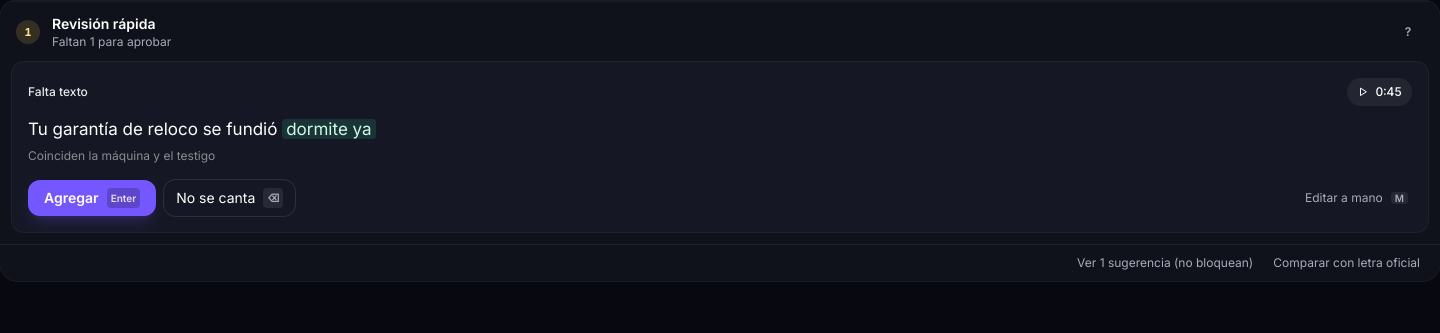
Scenario: LyricReviewPanel › shows one active card with the change, and hides suggestions until asked
Check: the text with test id "lyric-review-heading" reads "Faltan 1 para aprobar", box [52, 34, 171, 49]
Check: the text "Vos sos" is not shown
Click the button "Ver 1 sugerencia (no bloquean)": (1165, 263) [1073, 255, 1257, 271]
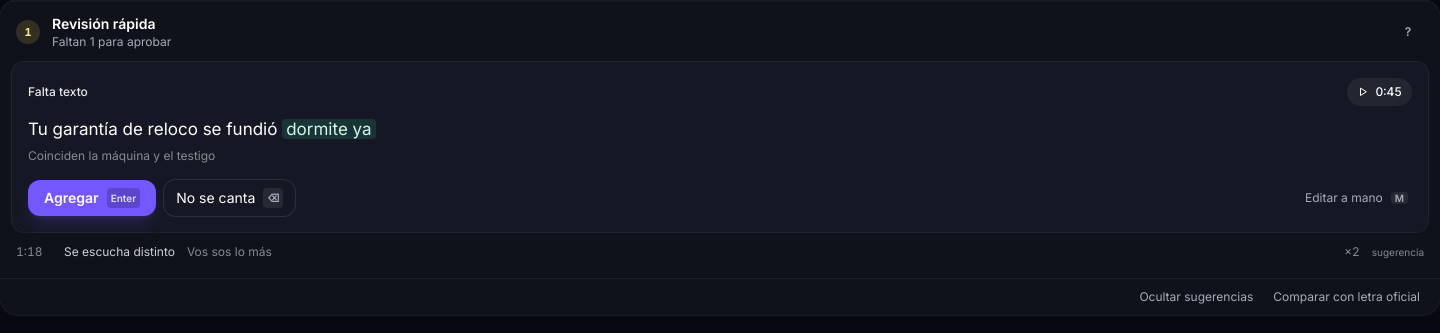
Check: the text "Vos sos lo más" is shown, box [187, 244, 272, 259]
